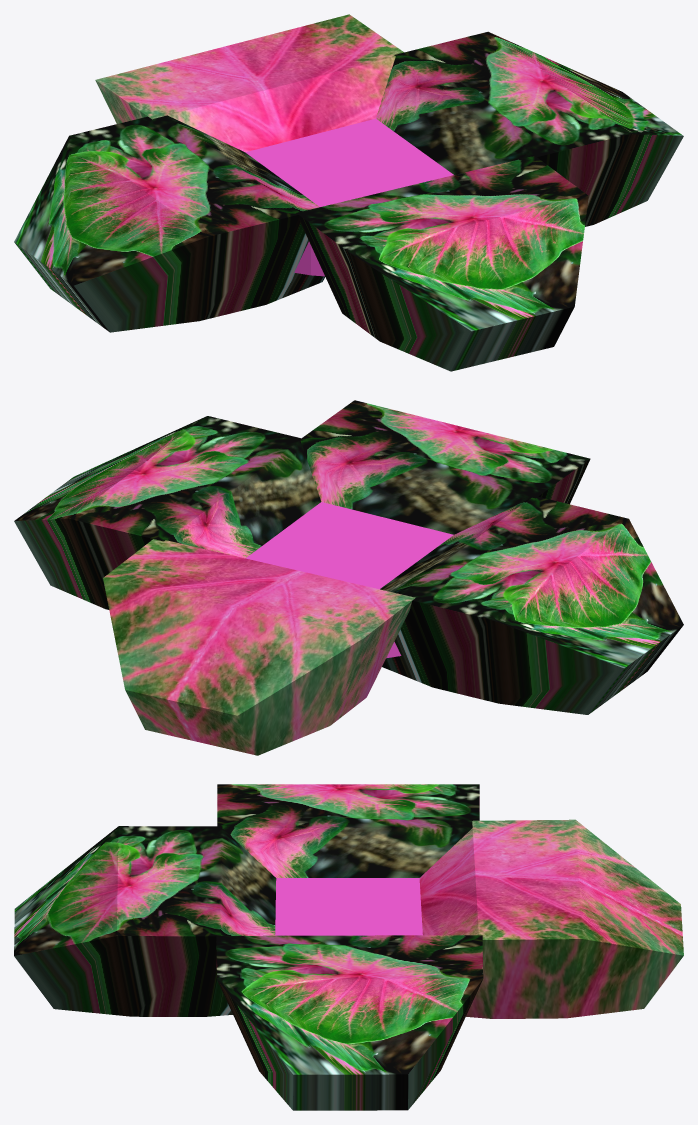
File: bubble_plant.fbx
3 views of the same model, one above another, from view 1: azimuth 30°, elevation 25°; view 2: azimuth 150°, elevation 25°; view 3: azimuth 270°, elevation 25° (orthographic). The views are drawn at different scales.
Parts seen in each view (by area): view 1: Plane, Plane.003, Plane.002, Plane.001, Cylinder; view 2: Plane.001, Plane, Plane.002, Plane.003, Cylinder; view 3: Plane.001, Plane.002, Plane.003, Plane, Cylinder.
Part boxes in pixels (x1,y1,x2,y2): Plane: (14,115,325,332); Plane.003: (296,156,588,371); Plane.002: (376,31,683,226); Plane.001: (95,14,403,152); Cylinder: (245,118,453,276); Plane.001: (103,539,415,755); Plane: (380,496,683,714); Plane.002: (14,416,321,609); Plane.003: (300,400,590,534); Cylinder: (245,502,453,658); Plane.001: (419,819,683,1018); Plane.002: (216,935,483,1110); Plane.003: (14,826,276,1016); Plane: (217,784,479,877); Cylinder: (275,878,422,935).
Size of the model in its own units: 479 by 82.64 by 480.
5 materials, 4 textured.
